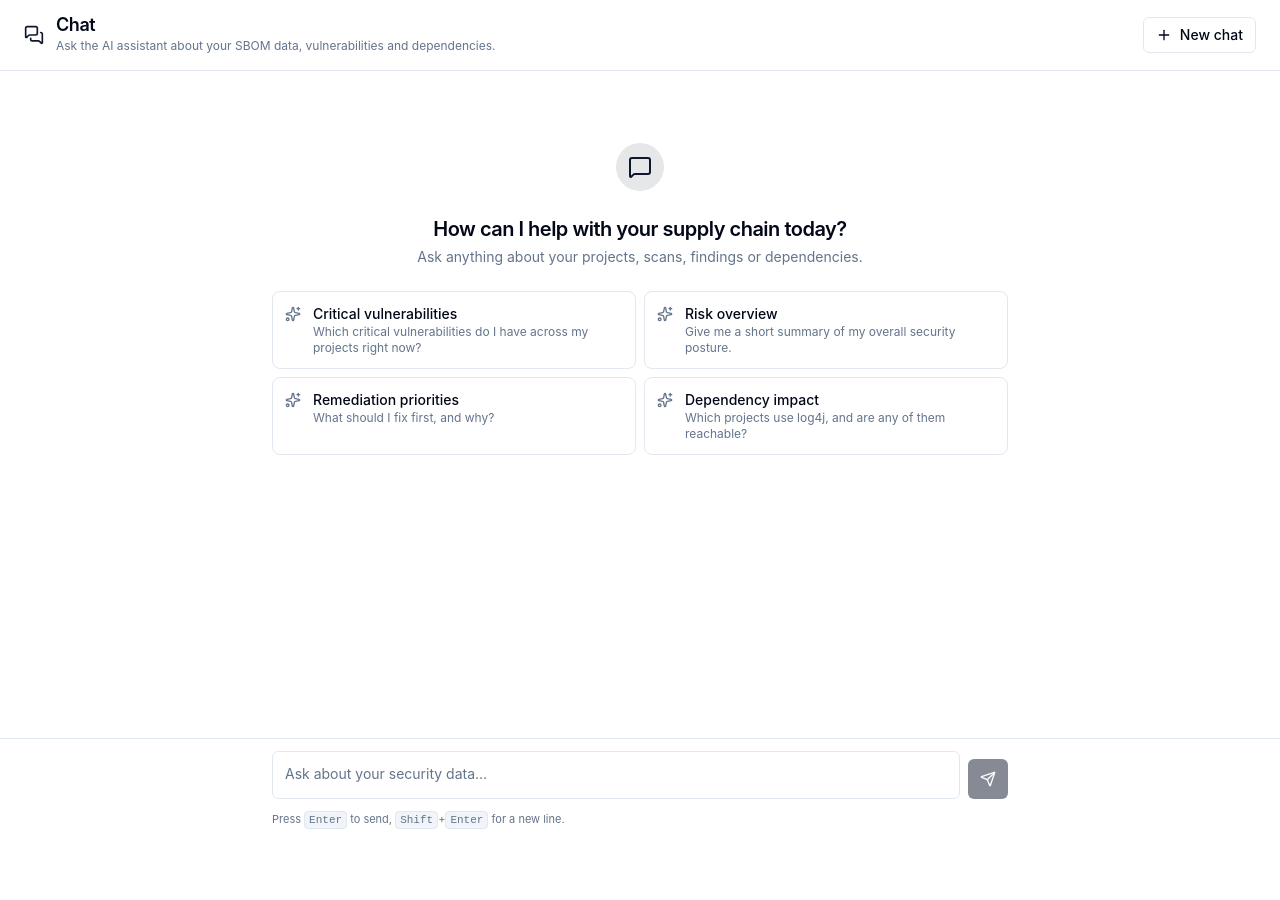
Test case: Chat error handling › New chat clears the active conversation without creating an empty one
Click the text "Risk overview" at (731, 314), box [685,305,778,322]
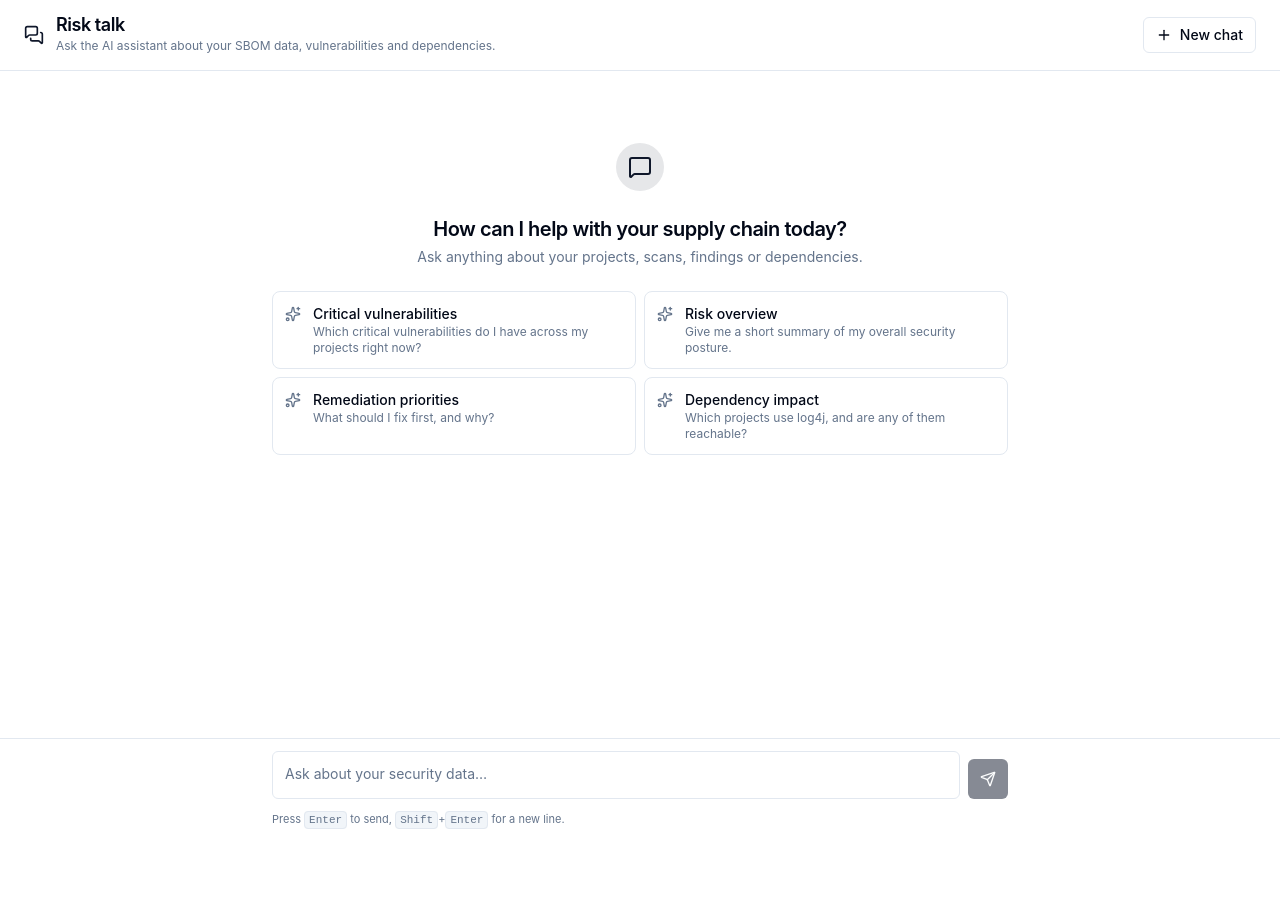
Expected: the heading "Risk talk" is shown, [56,16,125,35]
Click the button "New chat" at (1199, 35), box [1143,17,1256,53]
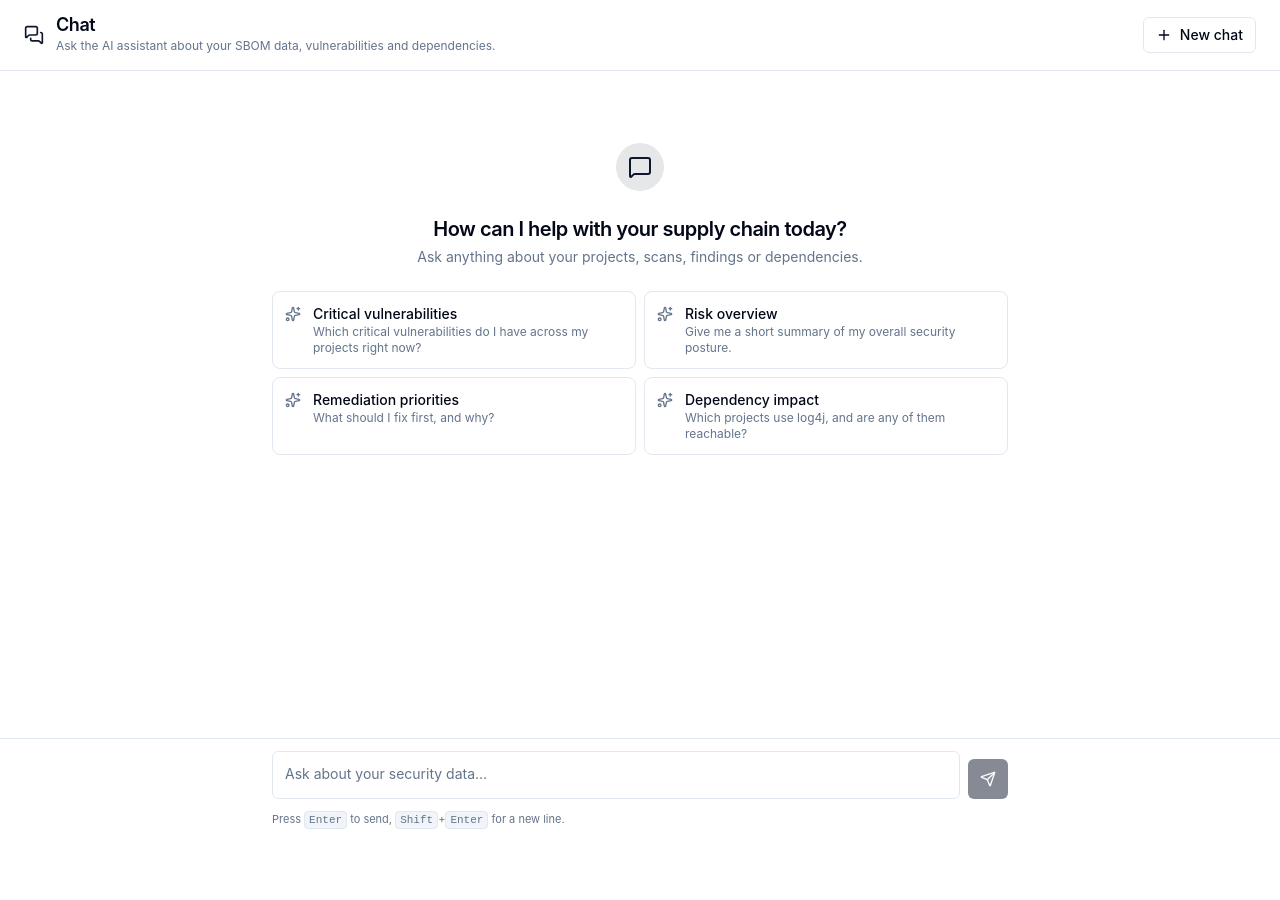
Expected: the heading "Chat" is shown, [56,16,95,35]
